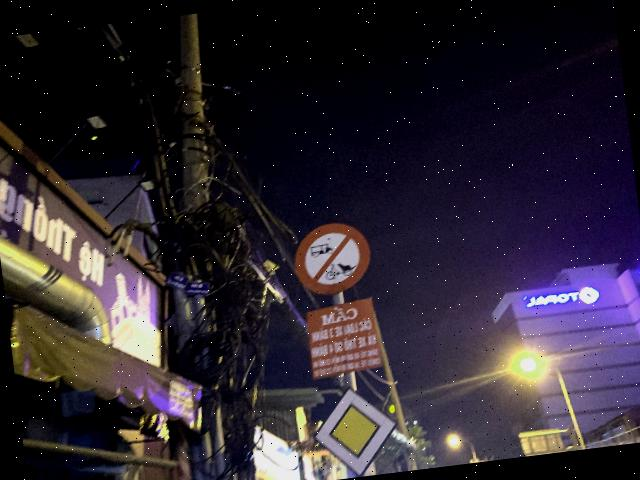bat-dau-duong-uu-tien: (306, 380, 404, 480)
cam-xe-3-banh-xe-tho-so-4-banh: (290, 218, 374, 299)
